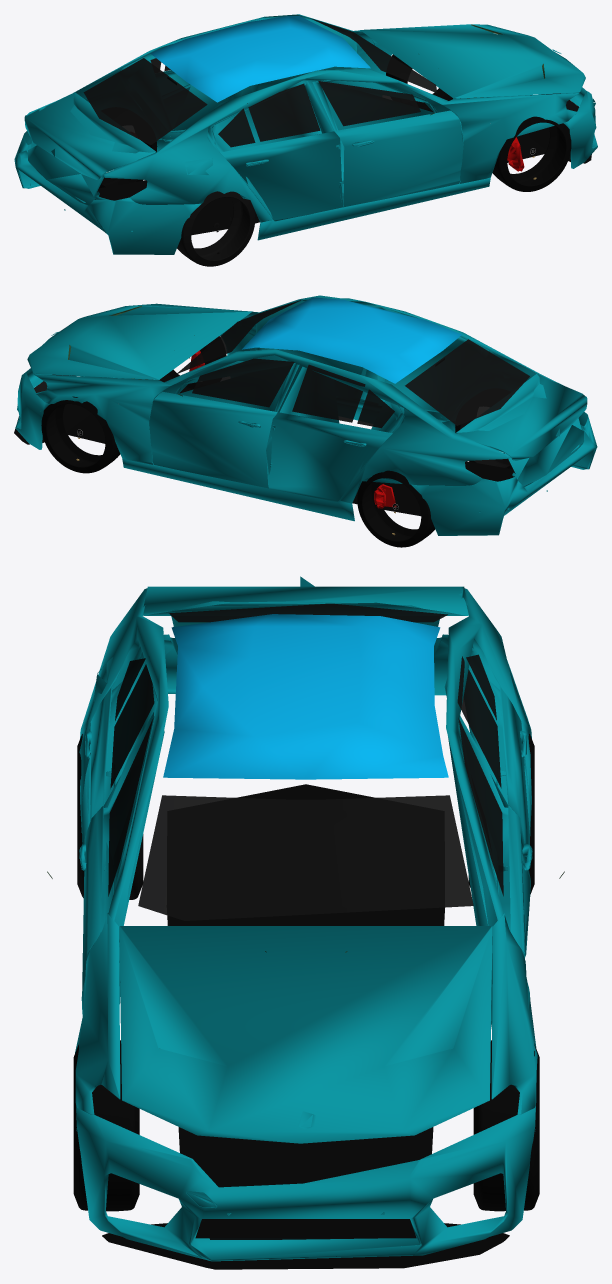
File: scene-ultra-low.glb
3 renders of one model, top to bottom at view 1: azimuth 30°, elevation 25°; view 2: azimuth 150°, elevation 25°; view 3: azimuth 270°, elevation 25°, orthographic. The views are drawn at different scales.
Visible parts, largest first — view 1: Object_55, Object_54, Object_99, Object_3, Object_77, Object_79, Object_14, Object_67; view 2: Object_55, Object_54, Object_99, Object_3, Object_77, Object_78, Object_14, Object_67, Object_79; view 3: Object_55, Object_54, Object_99, Object_3, Object_14, Object_77, Object_19, Object_79.
Part boxes in pixels (left/top/right/bottom): Object_55: left=24, top=24, right=585, bottom=221; Object_54: left=14, top=14, right=597, bottom=254; Object_99: left=83, top=18, right=437, bottom=147; Object_3: left=150, top=16, right=370, bottom=102; Object_77: left=386, top=54, right=571, bottom=191; Object_79: left=177, top=191, right=255, bottom=266; Object_14: left=97, top=95, right=591, bottom=235; Object_67: left=507, top=137, right=524, bottom=171; Object_55: left=27, top=305, right=587, bottom=501; Object_54: left=15, top=295, right=597, bottom=535; Object_99: left=176, top=299, right=529, bottom=428; Object_3: left=242, top=297, right=461, bottom=383; Object_77: left=41, top=336, right=398, bottom=509; Object_78: left=357, top=470, right=435, bottom=547; Object_14: left=14, top=404, right=515, bottom=516; Object_67: left=189, top=350, right=396, bottom=508; Object_79: left=455, top=419, right=512, bottom=469; Object_55: left=79, top=576, right=532, bottom=1143; Object_54: left=75, top=588, right=537, bottom=1261; Object_99: left=108, top=603, right=503, bottom=920; Object_3: left=163, top=614, right=448, bottom=779; Object_14: left=102, top=784, right=509, bottom=1269; Object_77: left=73, top=1040, right=539, bottom=1211; Object_19: left=205, top=1219, right=415, bottom=1239; Object_79: left=77, top=734, right=143, bottom=899.
Size of the model in its own units: 19.07 by 5.5 by 8.19.
